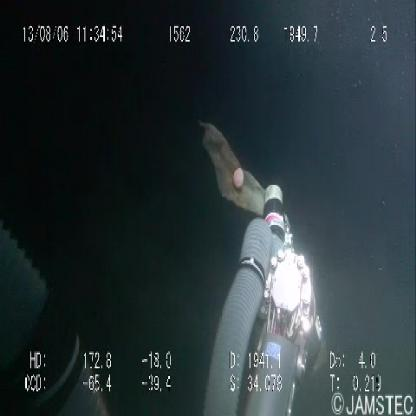Rov: (204, 182, 337, 416), (0, 175, 121, 416)
Rác: (194, 108, 266, 216)
